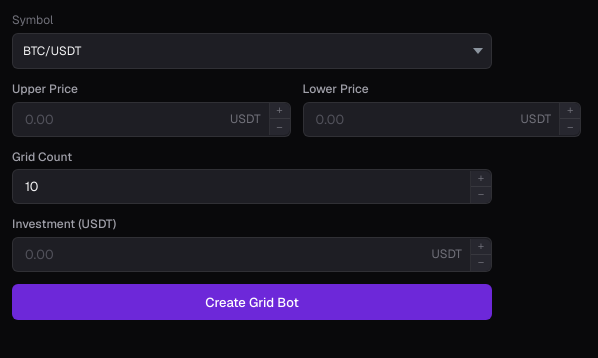
Test case: GridBotForm › rejects zero investment
Type "70000" into the field labelled "Upper Price" at (118, 119), box [13,103,222,136]
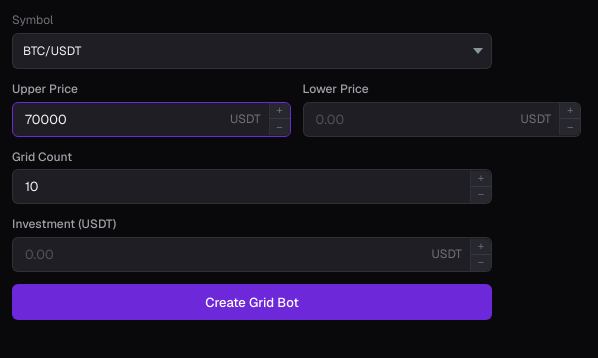
Type "60000" into the field labelled "Lower Price" at (408, 119), box [304,103,513,136]
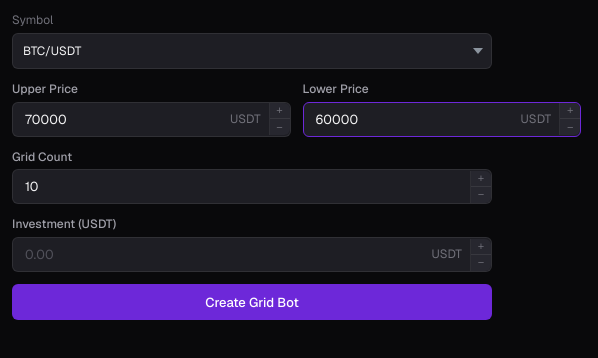
Type "0" into the field labelled "Investment (USDT)" at (218, 255), box [13,238,423,271]
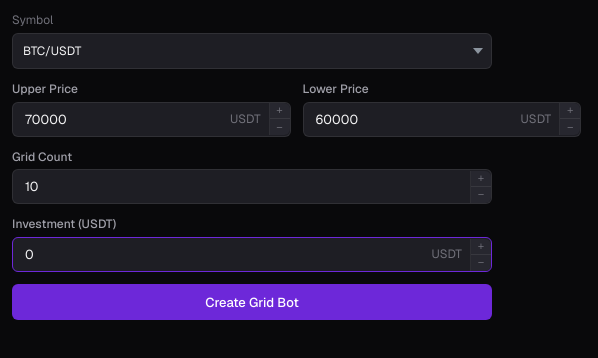
Click the button "Create Grid Bot" at (252, 302), box [12,284,492,320]
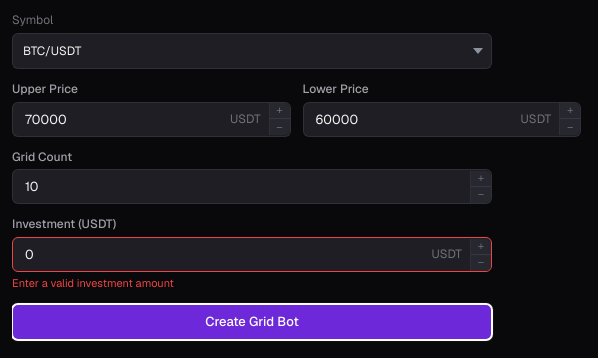
expect the text "Enter a valid investment amount" is shown: met, box [12,276,174,290]
